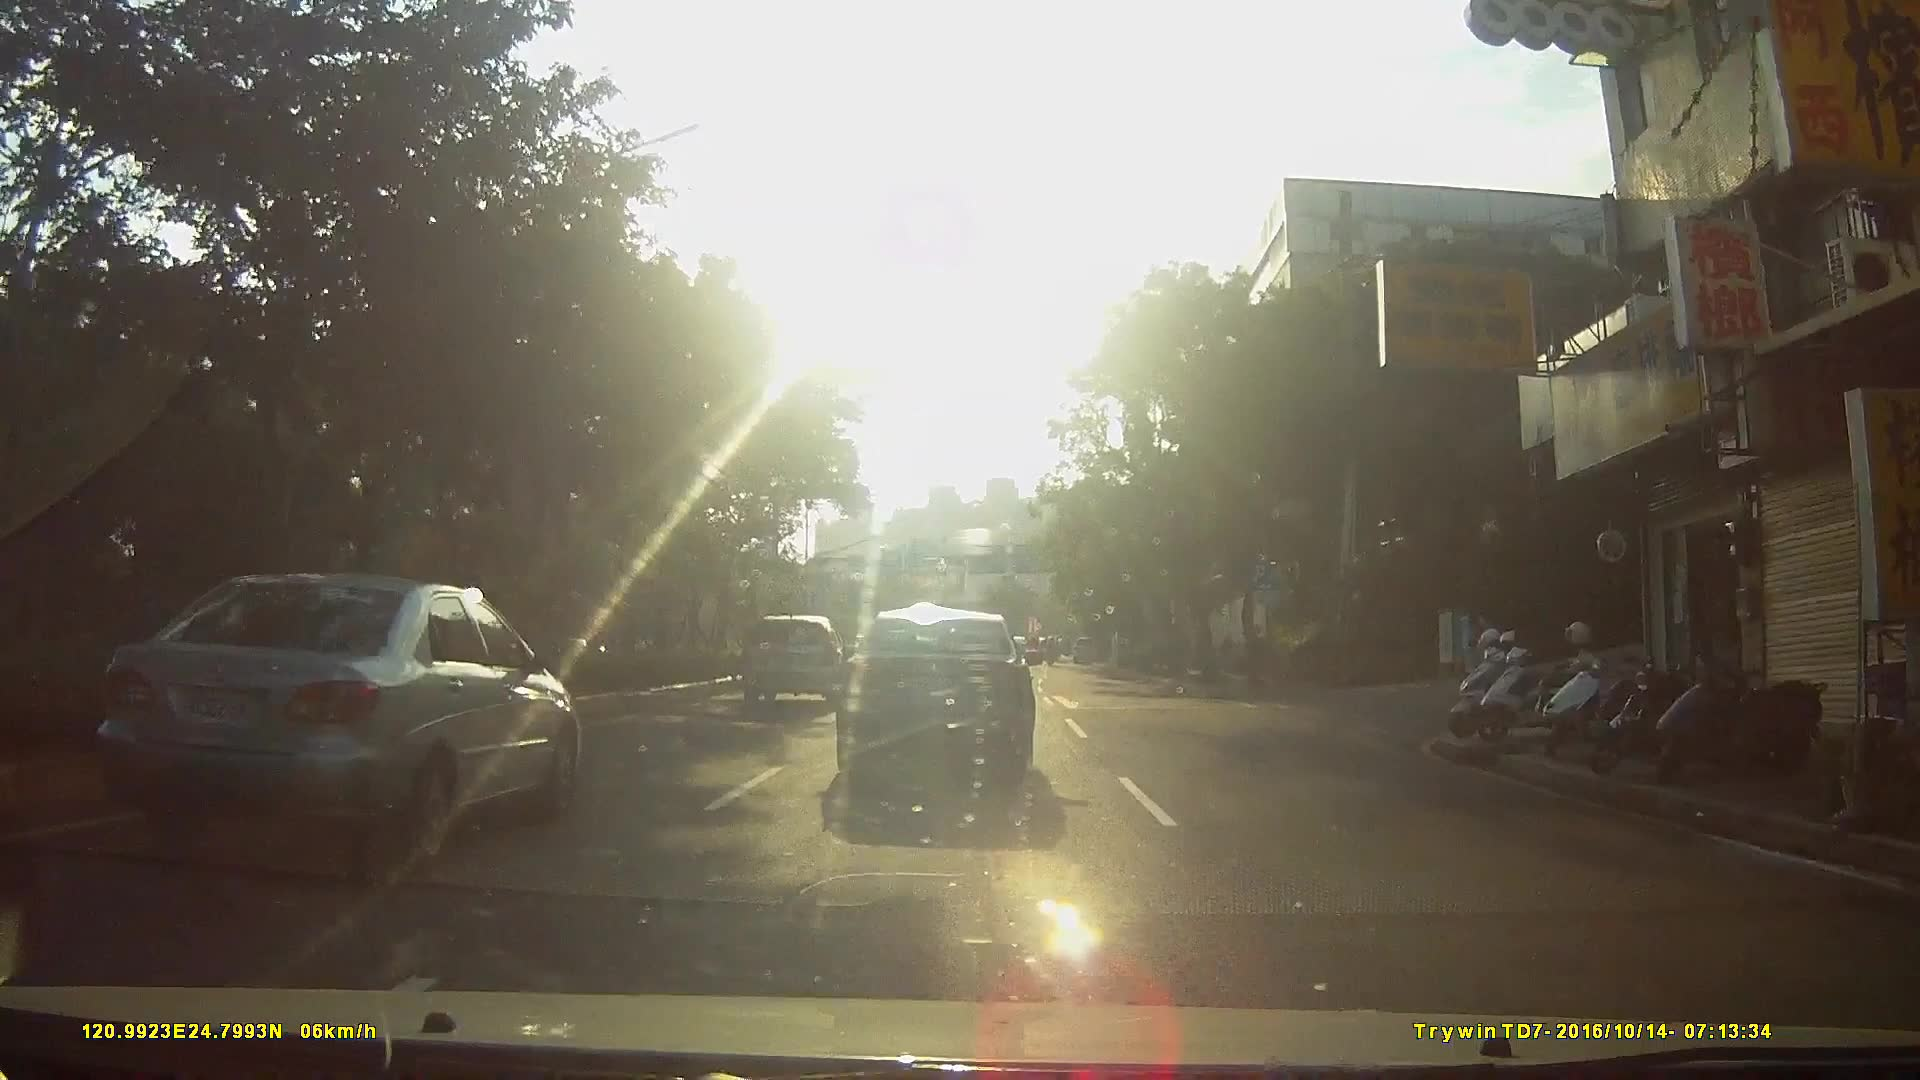vehicle: (42, 575, 585, 880), (841, 611, 1058, 799), (742, 615, 852, 705), (1071, 633, 1104, 663)
